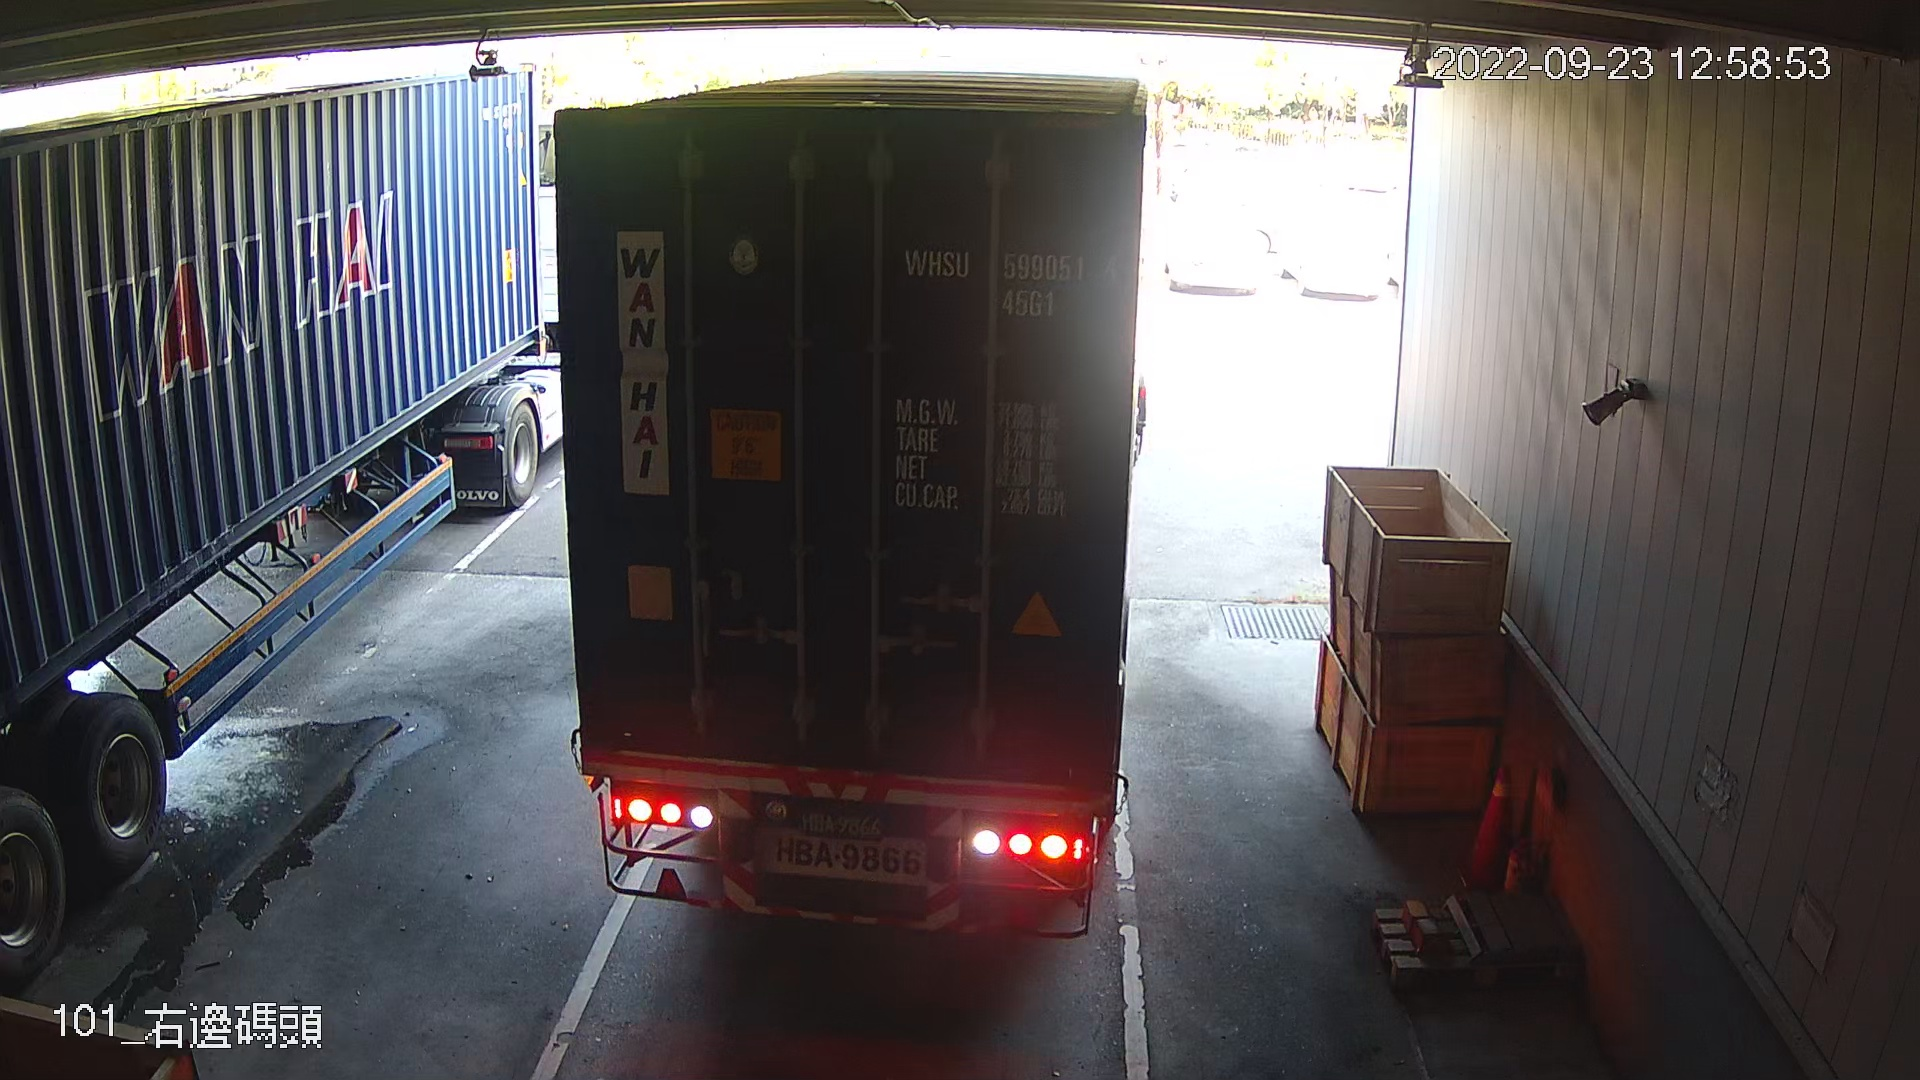container: (897, 231, 1125, 324)
